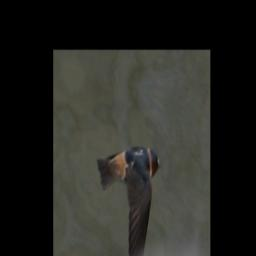Swallow: (86, 115, 163, 256)
